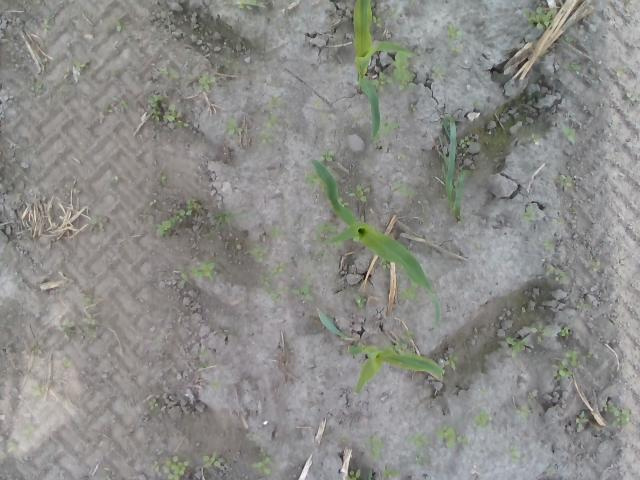Maize: (313, 158, 444, 327), (350, 0, 416, 141), (346, 344, 445, 394)
Weeds: (438, 115, 474, 224), (150, 198, 200, 238), (144, 93, 190, 129), (178, 260, 225, 290), (553, 346, 592, 380), (318, 310, 354, 341), (392, 50, 418, 92), (152, 455, 192, 480), (520, 4, 554, 30), (434, 424, 468, 449), (602, 402, 632, 430), (58, 317, 96, 338), (292, 272, 316, 304), (384, 331, 416, 353), (446, 22, 466, 57), (212, 209, 240, 232), (260, 112, 280, 144), (544, 264, 569, 288), (525, 321, 551, 343), (252, 450, 273, 476), (254, 288, 288, 304), (367, 432, 384, 461), (304, 170, 324, 194), (400, 280, 420, 304), (372, 71, 392, 95), (506, 335, 529, 355), (406, 430, 431, 448), (263, 94, 289, 111), (102, 98, 129, 114), (88, 207, 105, 232), (348, 183, 370, 202), (392, 183, 417, 199), (248, 244, 270, 262), (380, 120, 402, 138), (197, 73, 217, 92), (202, 449, 222, 468), (350, 288, 368, 308), (472, 409, 492, 427), (550, 174, 574, 189), (560, 126, 578, 146), (226, 118, 247, 135), (342, 464, 362, 480), (520, 206, 536, 226), (237, 0, 265, 11), (515, 406, 532, 424), (382, 464, 401, 480), (159, 66, 180, 80), (318, 222, 336, 238), (112, 17, 130, 33), (31, 78, 47, 95), (146, 398, 162, 415), (575, 410, 586, 434), (320, 149, 337, 164), (272, 261, 290, 275), (72, 58, 90, 72), (431, 65, 447, 80), (258, 272, 272, 288), (560, 34, 576, 48), (319, 110, 337, 122), (23, 423, 34, 441), (32, 384, 44, 400), (415, 448, 426, 465), (1, 439, 18, 450), (511, 448, 522, 465), (270, 225, 282, 240), (447, 353, 458, 369), (111, 174, 120, 193), (372, 14, 384, 28), (558, 326, 572, 338), (338, 433, 352, 445), (530, 132, 542, 145), (210, 380, 225, 390), (338, 196, 350, 208), (40, 17, 49, 33), (543, 240, 554, 253), (592, 260, 602, 274), (545, 465, 556, 477), (576, 302, 592, 310), (564, 64, 580, 72), (526, 391, 537, 402), (158, 176, 170, 186), (63, 358, 73, 369), (477, 387, 488, 397), (196, 362, 209, 369), (390, 7, 400, 16), (408, 103, 416, 113), (616, 66, 624, 76), (628, 96, 640, 102), (198, 350, 208, 357), (160, 9, 168, 16), (314, 100, 320, 106)
